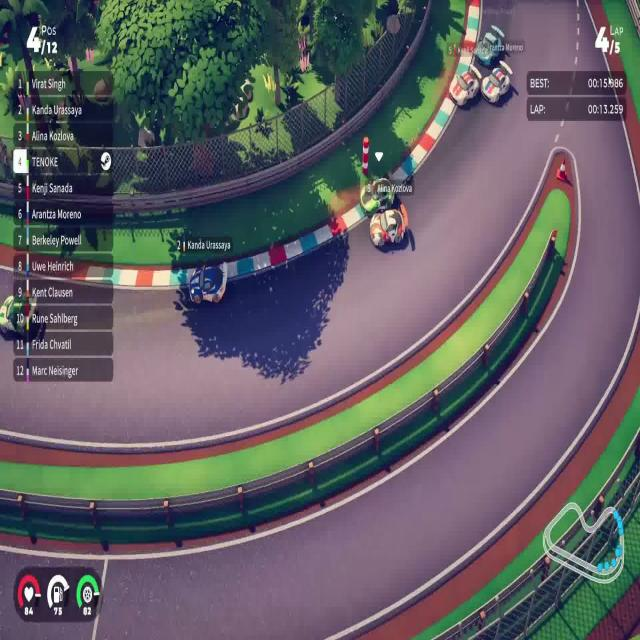car: (187, 261, 228, 306), (369, 208, 411, 245), (448, 67, 480, 108), (360, 176, 395, 213), (474, 23, 505, 64), (481, 64, 512, 104)
